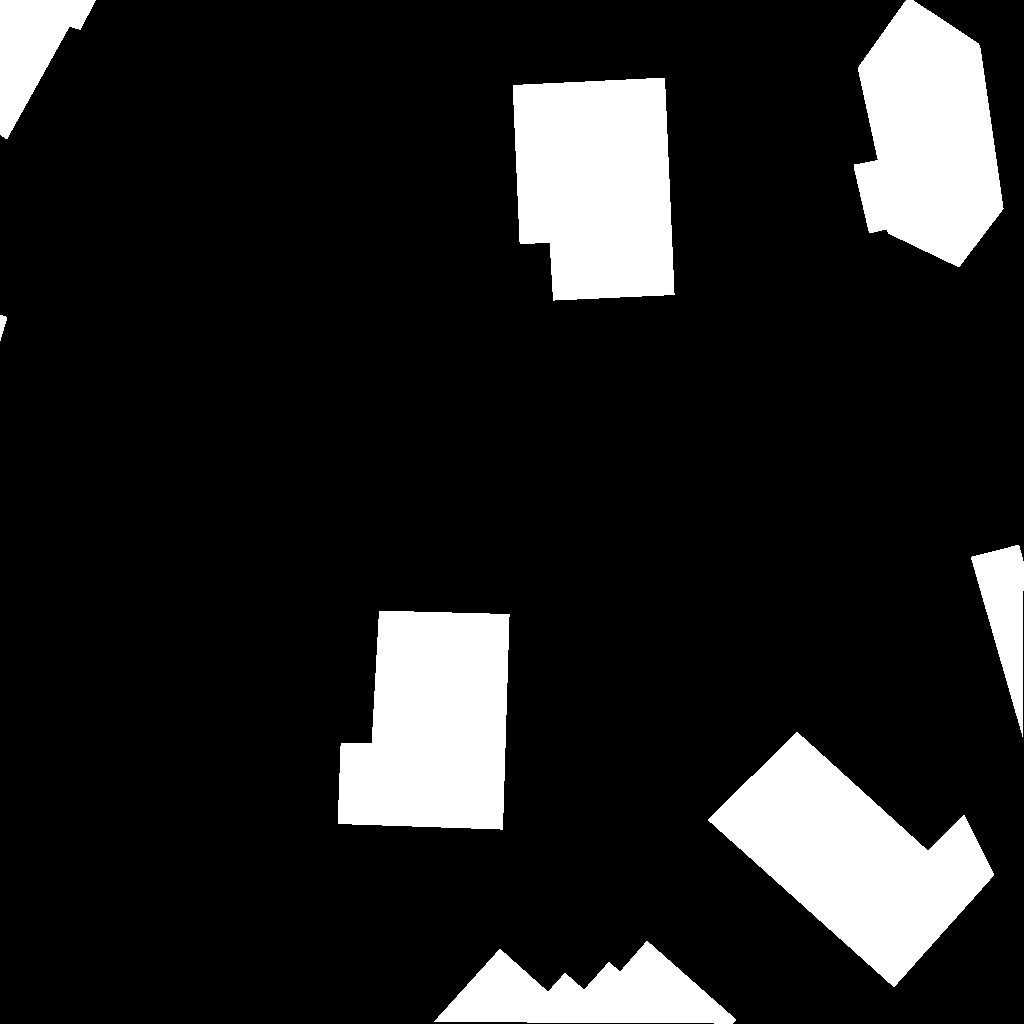building: (708, 732, 995, 988), (854, 0, 1004, 268), (338, 611, 510, 830), (513, 78, 675, 301), (434, 941, 737, 1024), (0, 0, 97, 140), (971, 545, 1024, 739), (0, 315, 8, 343)
